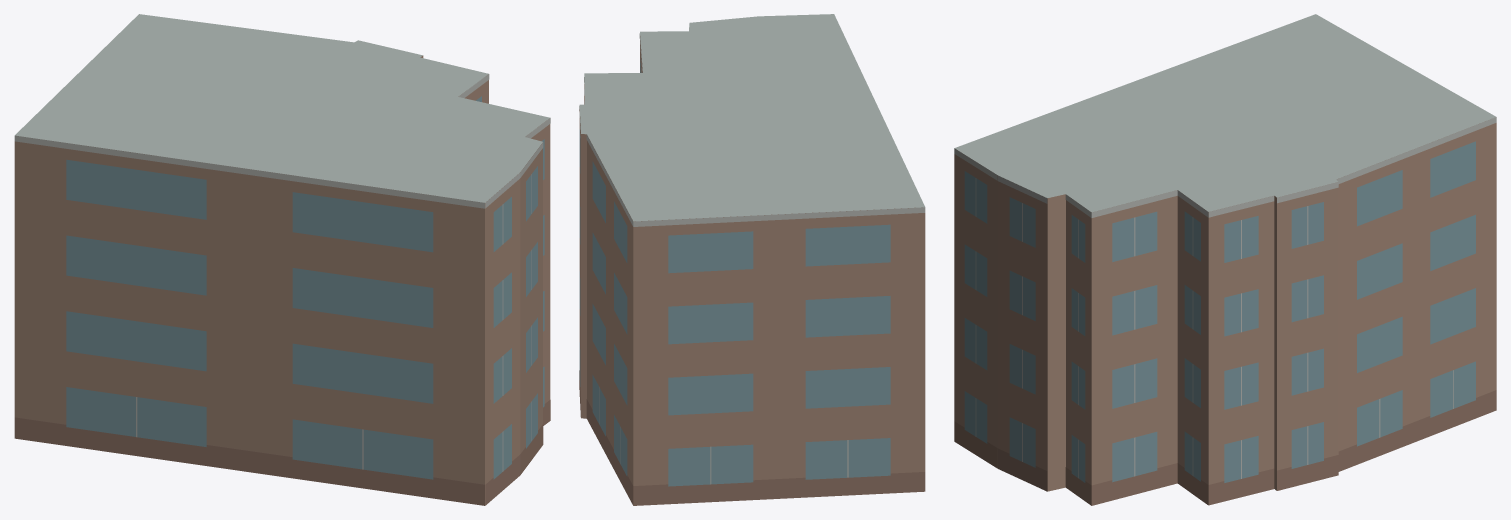
File: survey-upis-32776651.glb
3 renders of one model, left to right at view 1: azimuth 30°, elevation 25°; view 2: azimuth 150°, elevation 25°; view 3: azimuth 270°, elevation 25°, orthographic. The views are drawn at different scales.
Visible parts, largest first — view 1: survey-upis-32776651.tmp; view 2: survey-upis-32776651.tmp; view 3: survey-upis-32776651.tmp.
Boxes of the visible parts, x1,y1,x2,y2 form: survey-upis-32776651.tmp: (14,14,550,505); survey-upis-32776651.tmp: (579,14,925,505); survey-upis-32776651.tmp: (954,14,1496,505).
Bounding box in the file's own units: 18.14 × 12.5 × 20.94.
